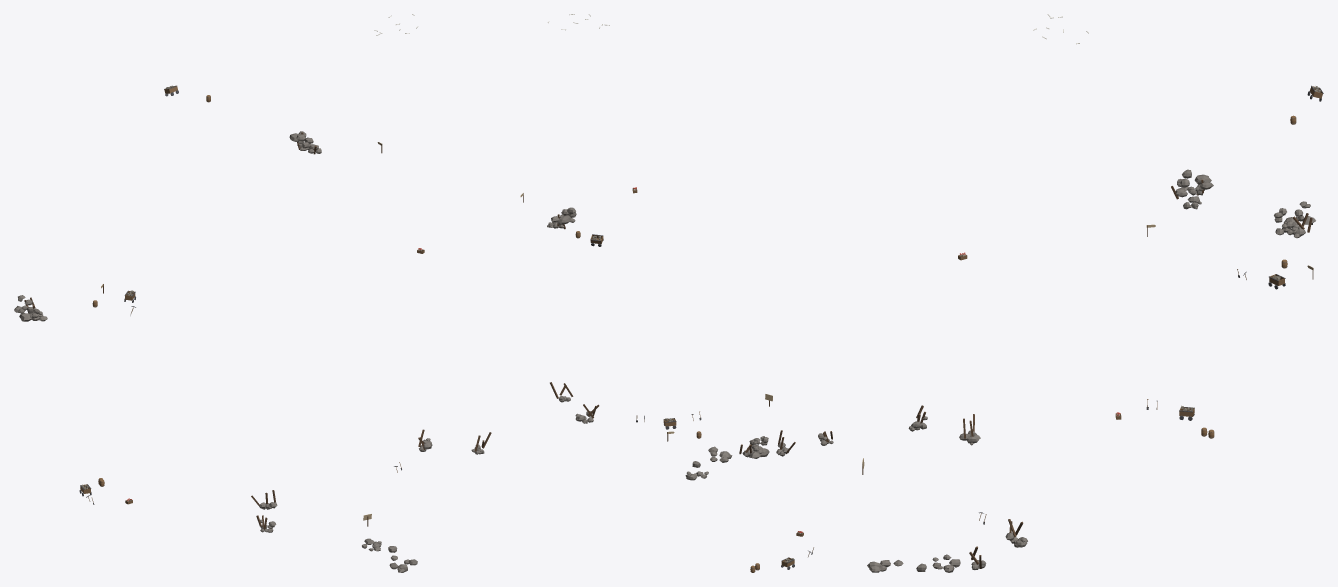
The model's file is TunelesObjetos.glb.
3 renders of one model, left to right at view 1: azimuth 30°, elevation 25°; view 2: azimuth 150°, elevation 25°; view 3: azimuth 270°, elevation 25°, orthographic. The views are drawn at different scales.
Visible parts, largest first — view 1: TunelDerrumbes; view 2: TunelDerrumbes, TunelVagonetas; view 3: TunelDerrumbes.
Part boxes in pixels (x1,y1,x2,y2): TunelDerrumbes: (14, 131, 491, 572); TunelDerrumbes: (547, 207, 833, 480); TunelVagonetas: (590, 234, 794, 569); TunelDerrumbes: (867, 169, 1315, 572).
Bounding box in the file's own units: 57.48 × 75.62 × 54.31.
